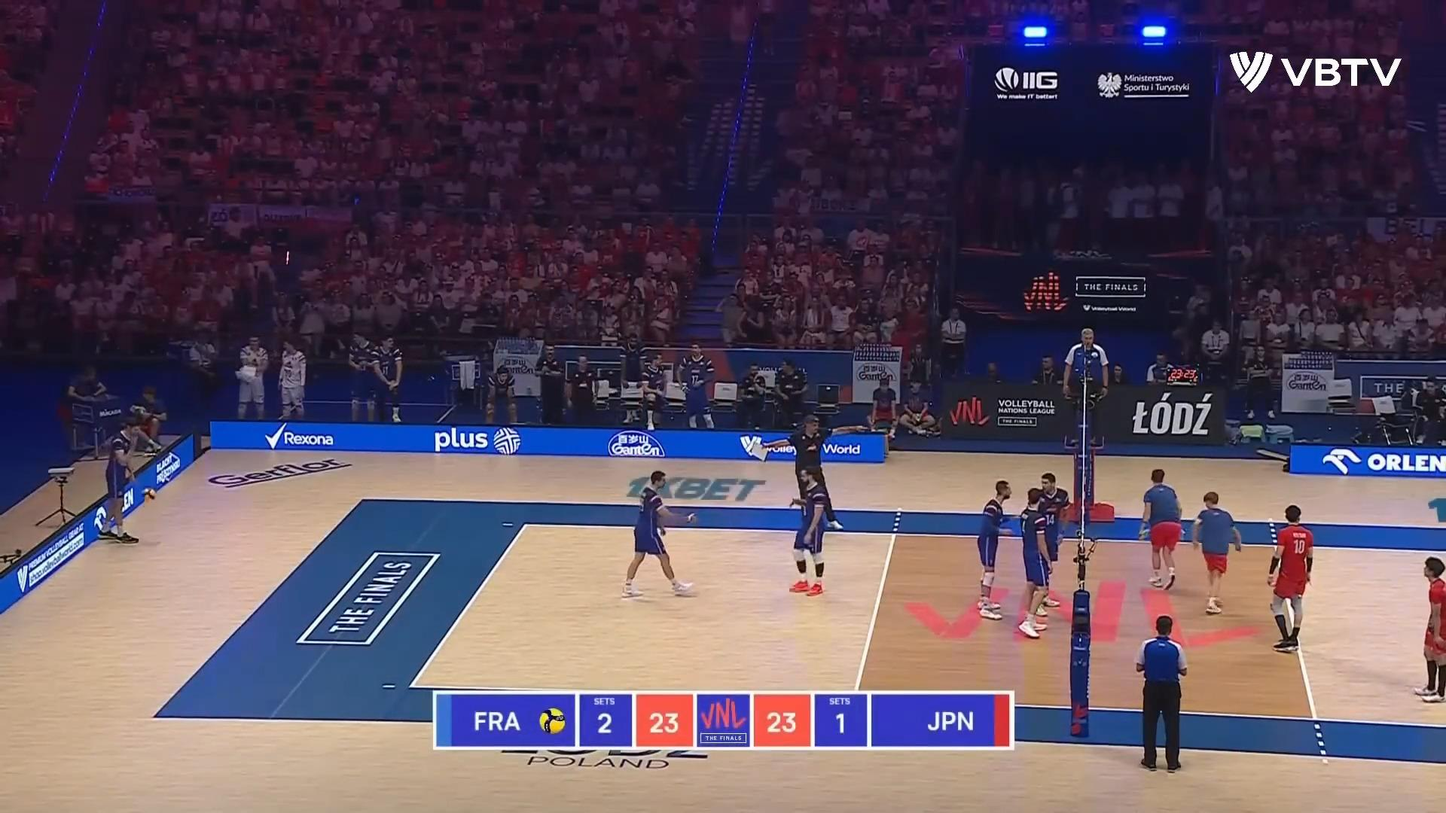ball: (141, 487, 158, 504)
